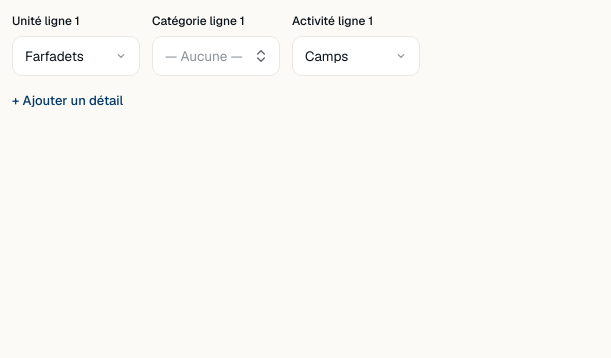
Scenario: ImputationGrid › solde vivant : dépasse en rouge, save désactivé
Click the button "+ Ajouter un détail" at [68, 101], box [12,91,123,110]
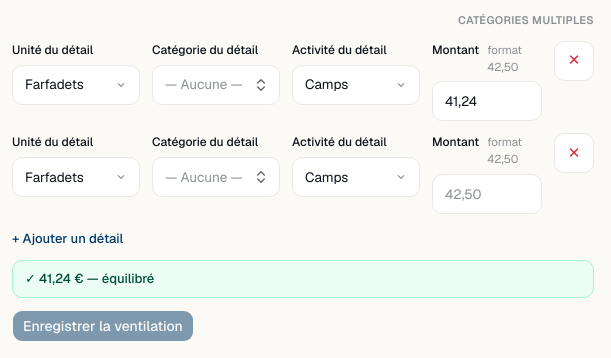
Type "10,00" into the 2nd field labelled "Montant" at [487, 194], box [432,174,542,214]
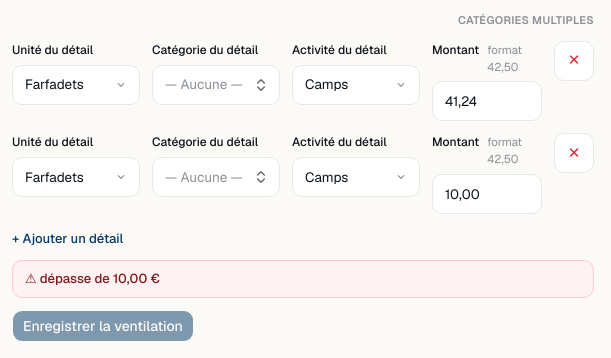
Expected: the button "Enregistrer la ventilation" is disabled, [12,310,194,342]
Expected: the text "⚠ dépasse de 10,00 €" is shown, [12,260,594,298]
